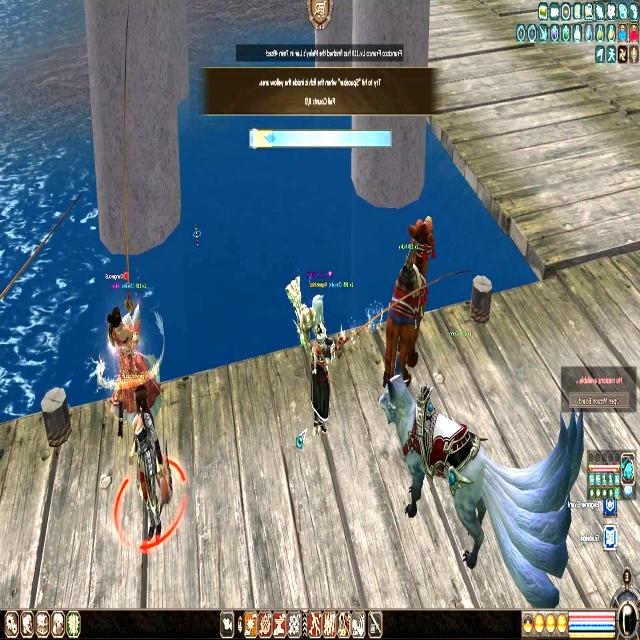fishes: (259, 129, 277, 150)
